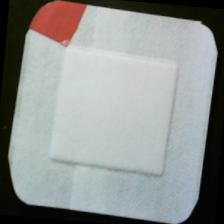Dressing: (1, 1, 224, 224)
Red_T: (23, 1, 93, 56)
